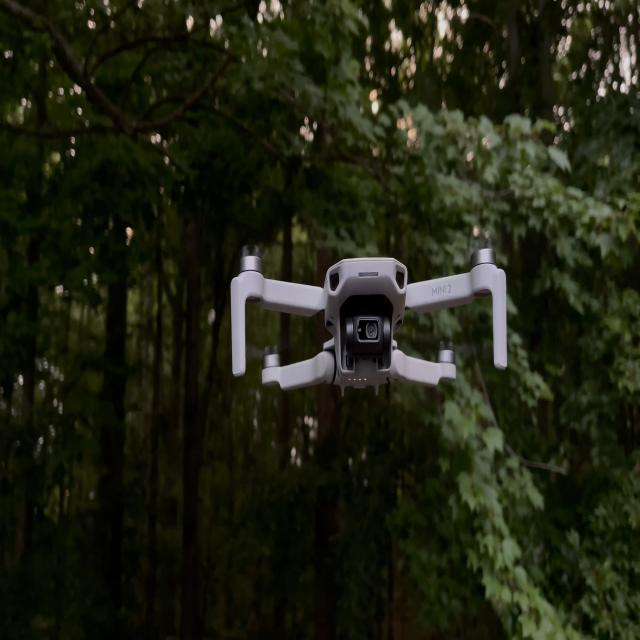Drone: (228, 232, 505, 412)
